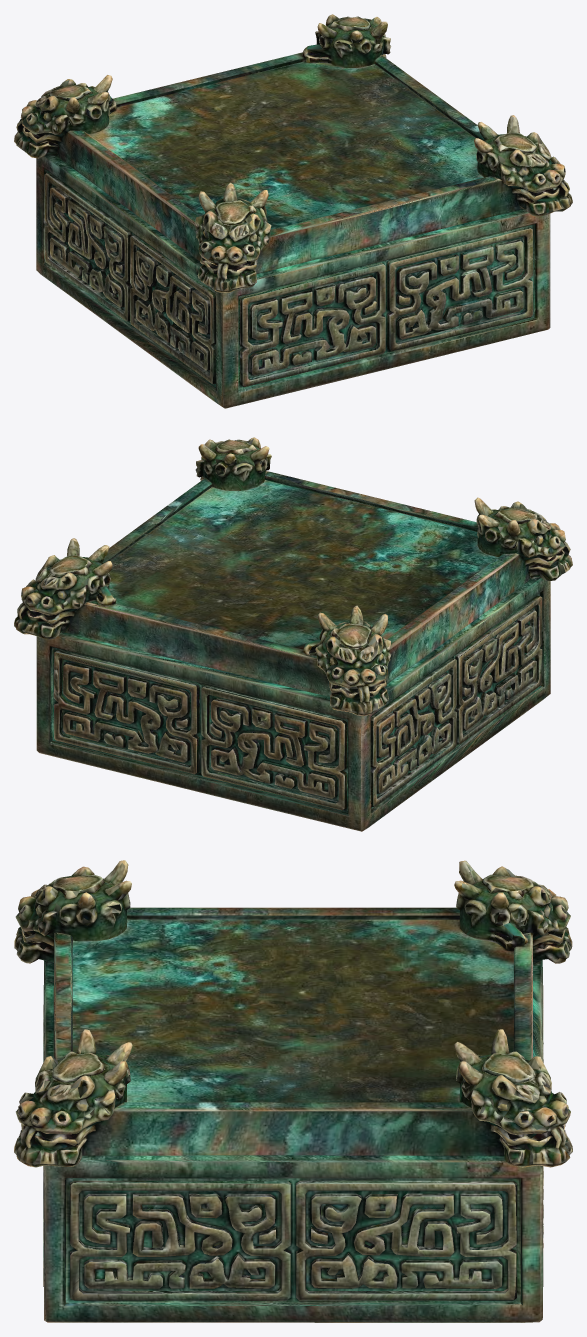
3 views of the same model, one above another, from view 1: azimuth 30°, elevation 25°; view 2: azimuth 150°, elevation 25°; view 3: azimuth 270°, elevation 25° (orthographic). The views are drawn at different scales.
Parts seen in each view (by area): view 1: mesh; view 2: mesh; view 3: mesh.
Boxes of the visible parts, <box> form: mesh: <box>14,14,572,408</box>; mesh: <box>14,437,572,831</box>; mesh: <box>14,860,572,1322</box>.
Bounding box in the file's own units: 0.9904 × 0.5086 × 1.
Materials: 1 (1 with a texture image).
